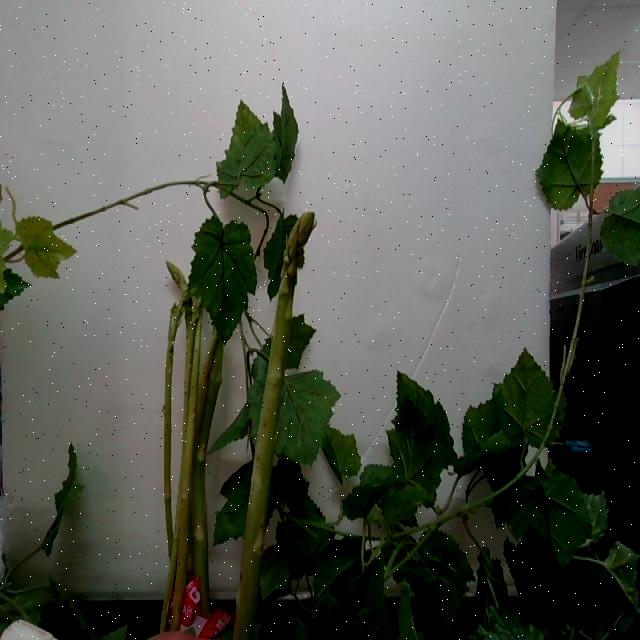aspargus: (232, 207, 316, 640)
